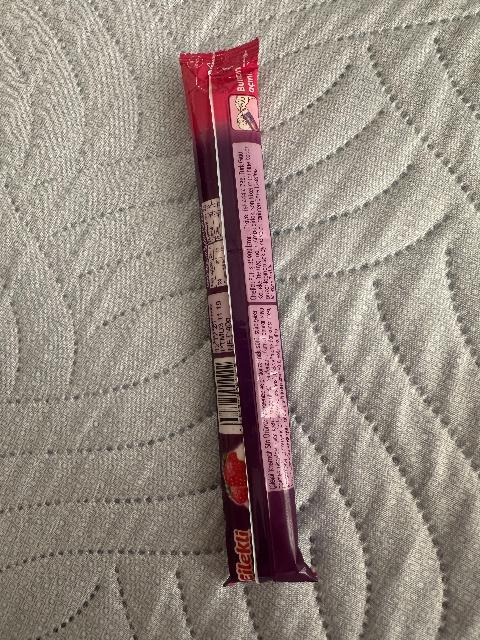Plastik: (178, 54, 311, 583)
